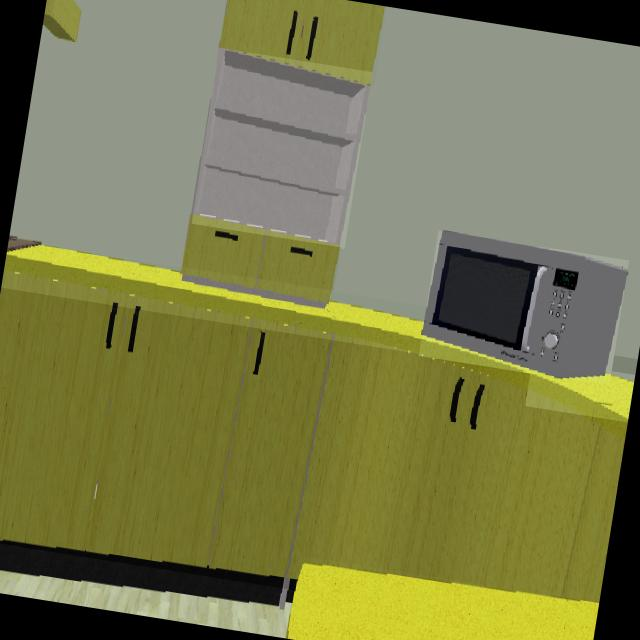cabinet: (0, 259, 634, 604), (220, 0, 386, 87), (183, 216, 340, 304)
microwave: (422, 232, 627, 377)
shelf: (193, 50, 370, 247)
table: (4, 246, 475, 359), (286, 564, 599, 640), (530, 372, 635, 421)
